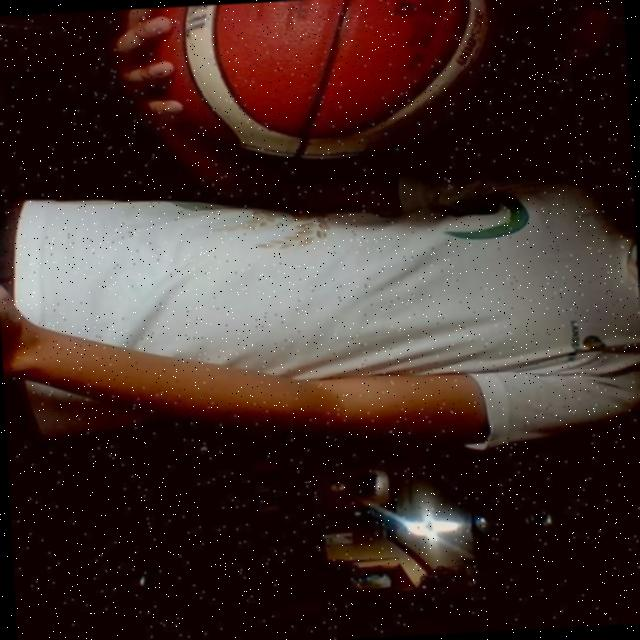ball: (150, 0, 508, 173)
